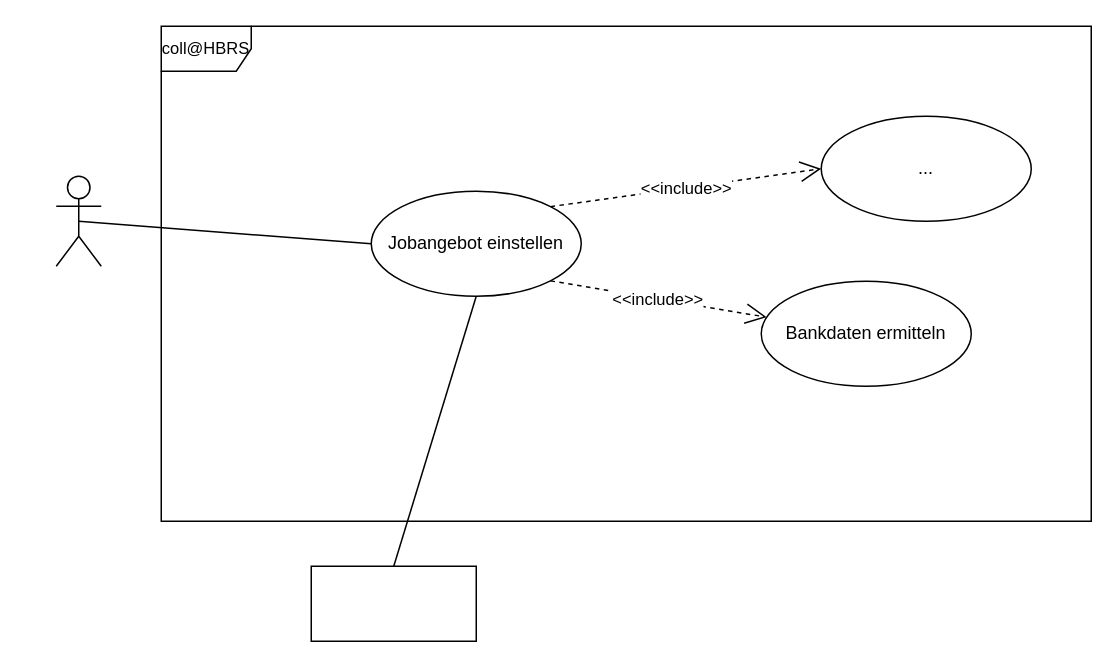
Some shapes in this 1118 by 668 pixel diagram are drawn without their labels. Here are the shapes that lost their labels. From the top down, the centre of each, then its label:
At point 78,220: "Unternehmer".
At point 393,603: "Externes Infosystem".
